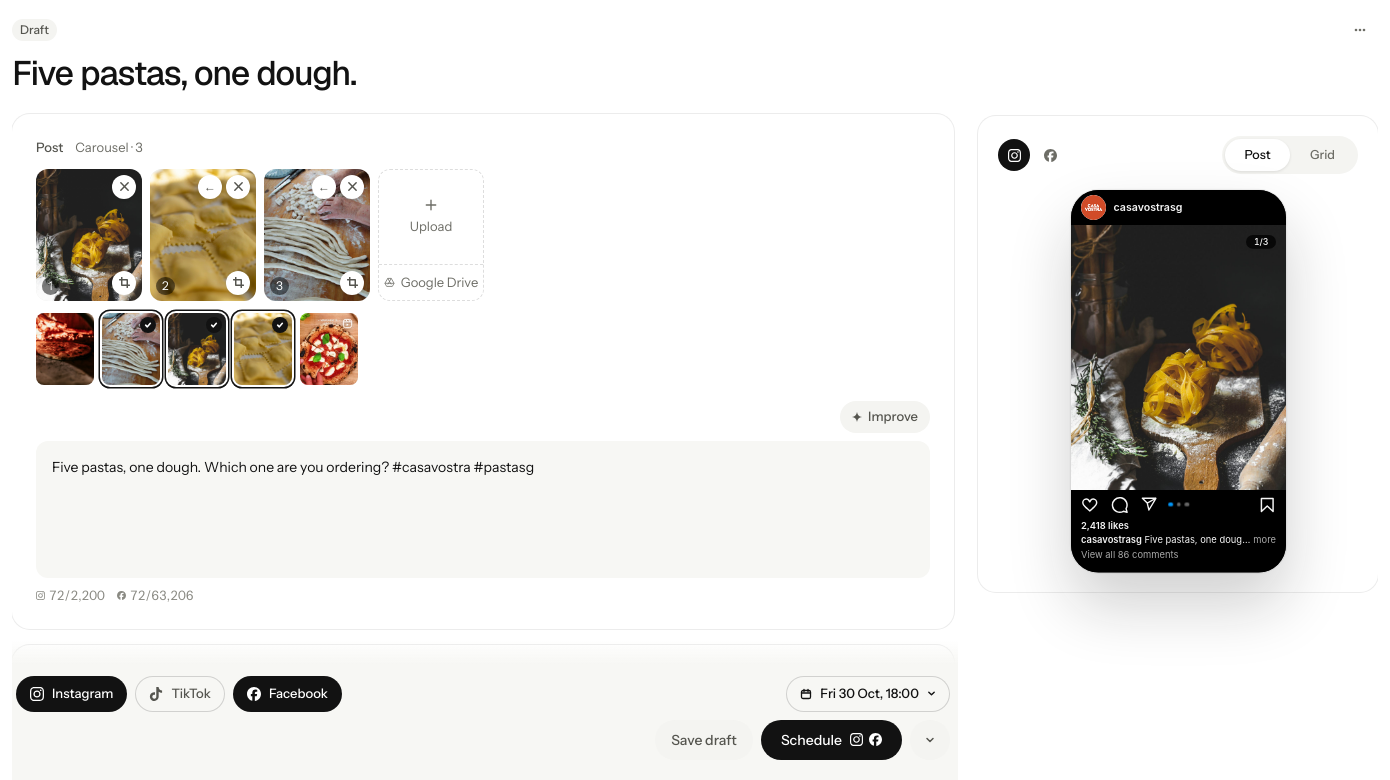
Test: the grid preview › marks a reel with the reel glyph and a multi-photo post with the stacked squares
The width and height of the screenshot is (1390, 780).
Click the radio button labelled "Grid". click: [1322, 155]
box: x1=1290 y1=139 x2=1355 y2=171
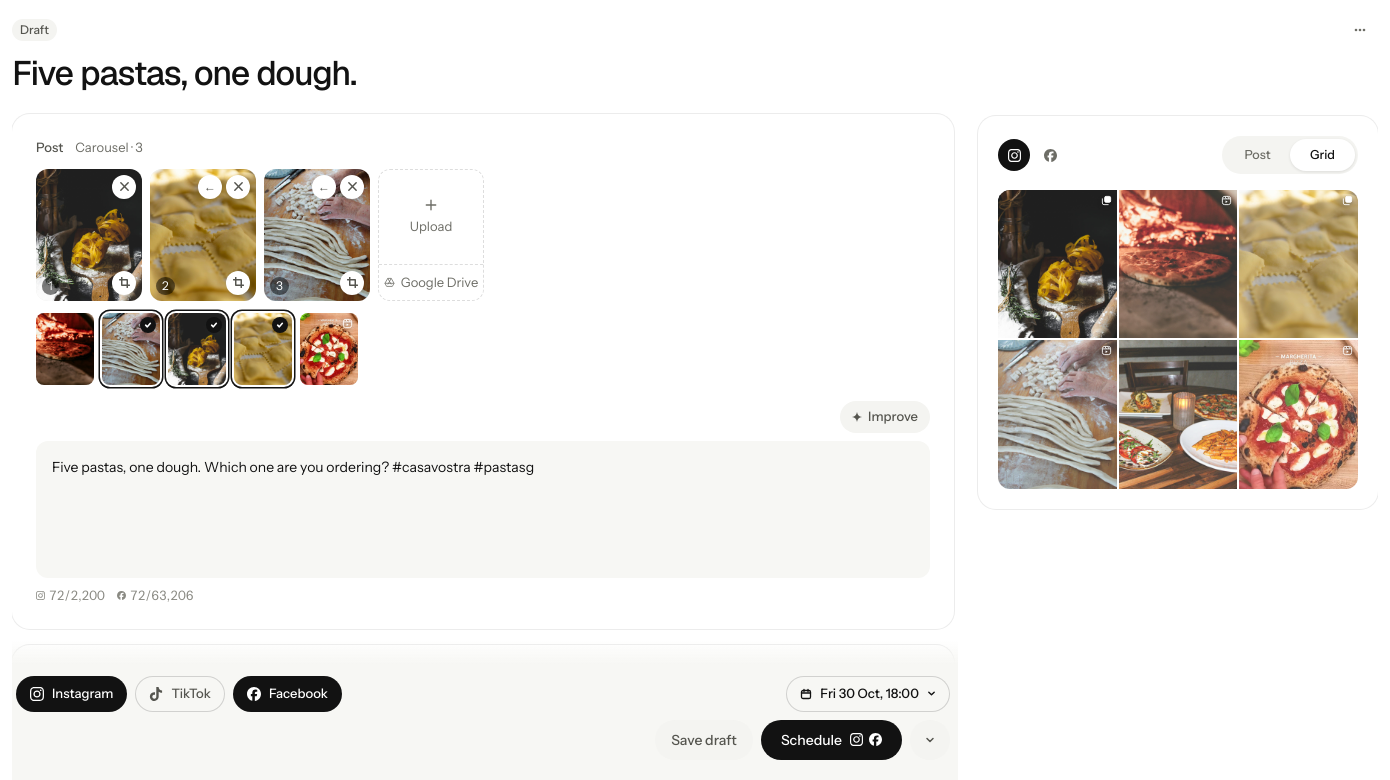
Expected: the number of pictures named "Reel" is 3, x1=1221 y1=195 x2=1232 y2=206; x1=1101 y1=345 x2=1112 y2=356; x1=1342 y1=345 x2=1353 y2=356
Expected: the number of pictures named "Carousel" is 2, x1=1101 y1=195 x2=1112 y2=206; x1=1342 y1=195 x2=1353 y2=206
Expected: the 1st picture named "Carousel" is shown, x1=1101 y1=195 x2=1112 y2=206
